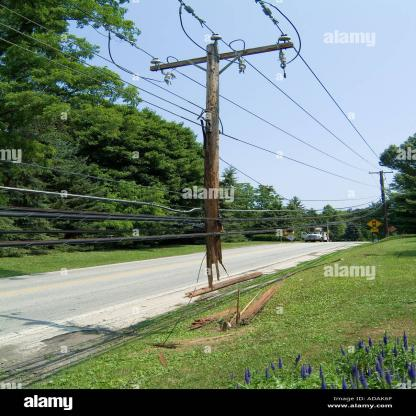Electrical Pole: (142, 24, 310, 292)
